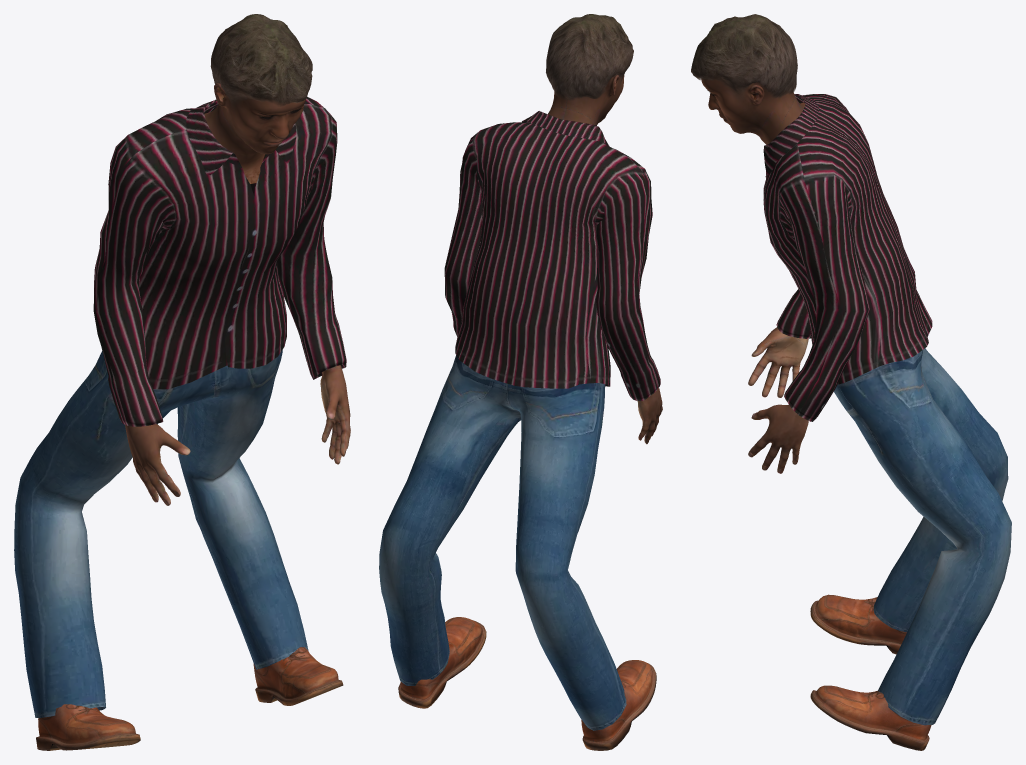
Rendered from uomo-02.glb.
3 views of the same model, side by side, from view 1: azimuth 30°, elevation 25°; view 2: azimuth 150°, elevation 25°; view 3: azimuth 270°, elevation 25° (orthographic). The views are drawn at different scales.
Parts seen in each view (by area): view 1: Human.male_casualsuit03, Human, Human.short02, Human.shoes01; view 2: Human.male_casualsuit03, Human.short02, Human.shoes01, Human; view 3: Human.male_casualsuit03, Human, Human.shoes01, Human.short02.
Part boxes in pixels (box(x1,y1,x2,y2)): Human.male_casualsuit03: box(14, 97, 346, 717); Human: box(125, 82, 350, 505); Human.short02: box(210, 14, 312, 107); Human.shoes01: box(36, 647, 343, 750); Human.male_casualsuit03: box(379, 111, 660, 730); Human.short02: box(546, 14, 633, 100); Human.shoes01: box(398, 617, 656, 750); Human: box(548, 75, 662, 444); Human.male_casualsuit03: box(763, 94, 1011, 725); Human: box(701, 78, 808, 473); Human.shoes01: box(810, 594, 931, 750); Human.short02: box(691, 14, 797, 99).
Size of the model in its own units: 0.6027 by 1.68 by 0.7147.
Materials: 12 (12 with a texture image).
